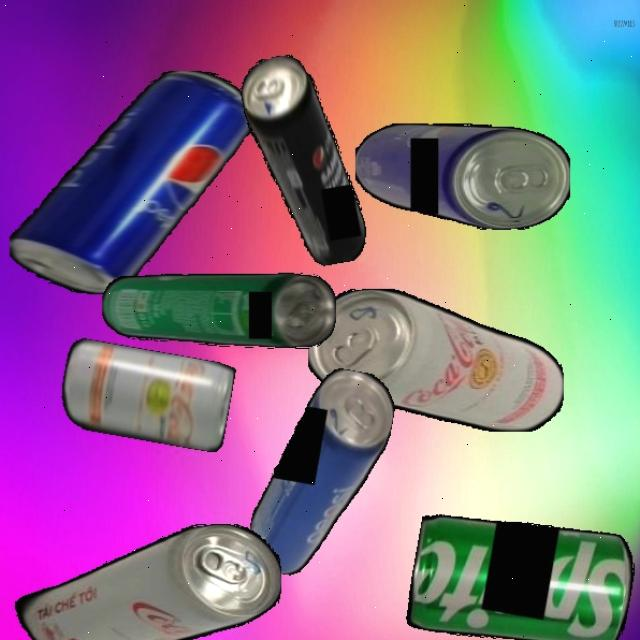debris: (8, 71, 255, 294), (308, 288, 564, 432), (244, 359, 399, 587), (404, 501, 640, 640), (2, 524, 281, 640), (237, 47, 371, 274), (354, 123, 570, 230), (56, 337, 236, 453), (101, 273, 336, 349)
